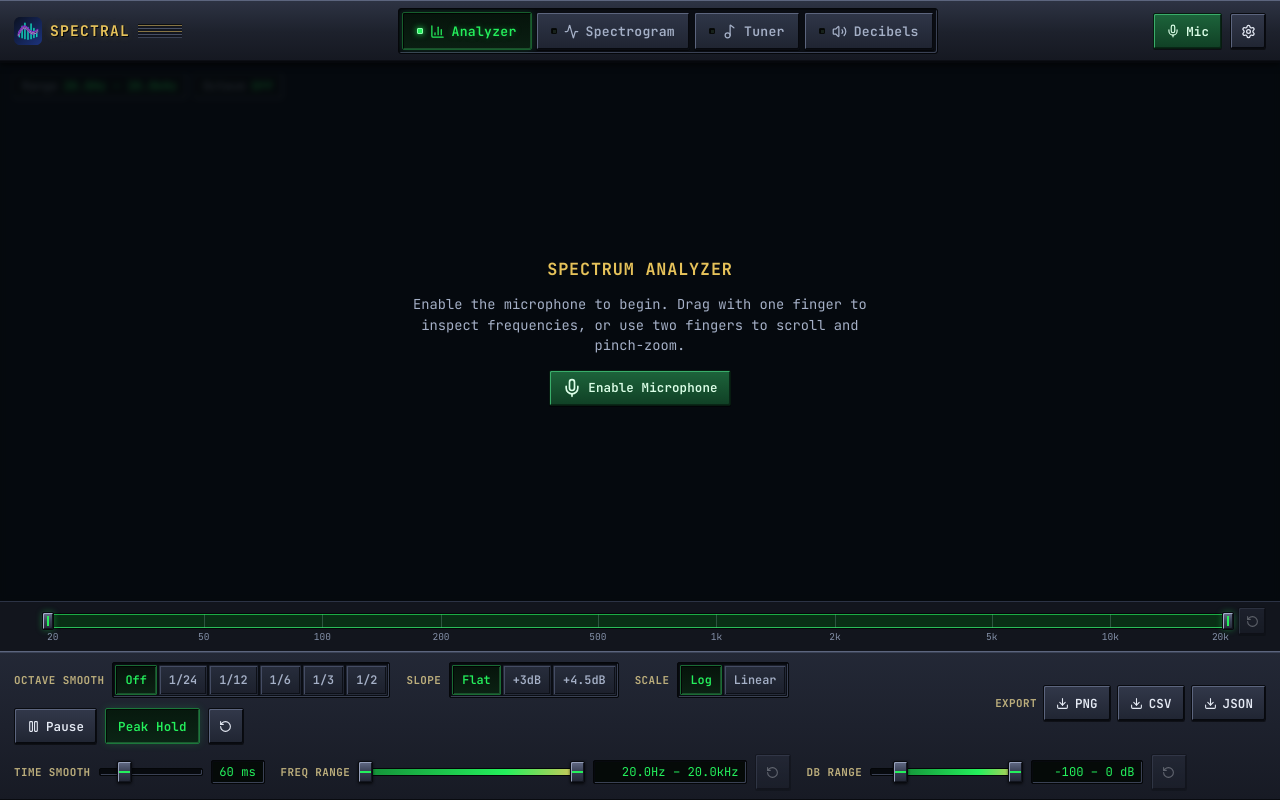
Test: Decibels Tab, Meter UI & Scrollable Header Tabs › adds the Decibels tab after Tuner, switches to DecibelsView on click, and persists preference
Click the tab "Decibels". click: (869, 31)
box: top-left (804, 12), bottom-right (934, 50)
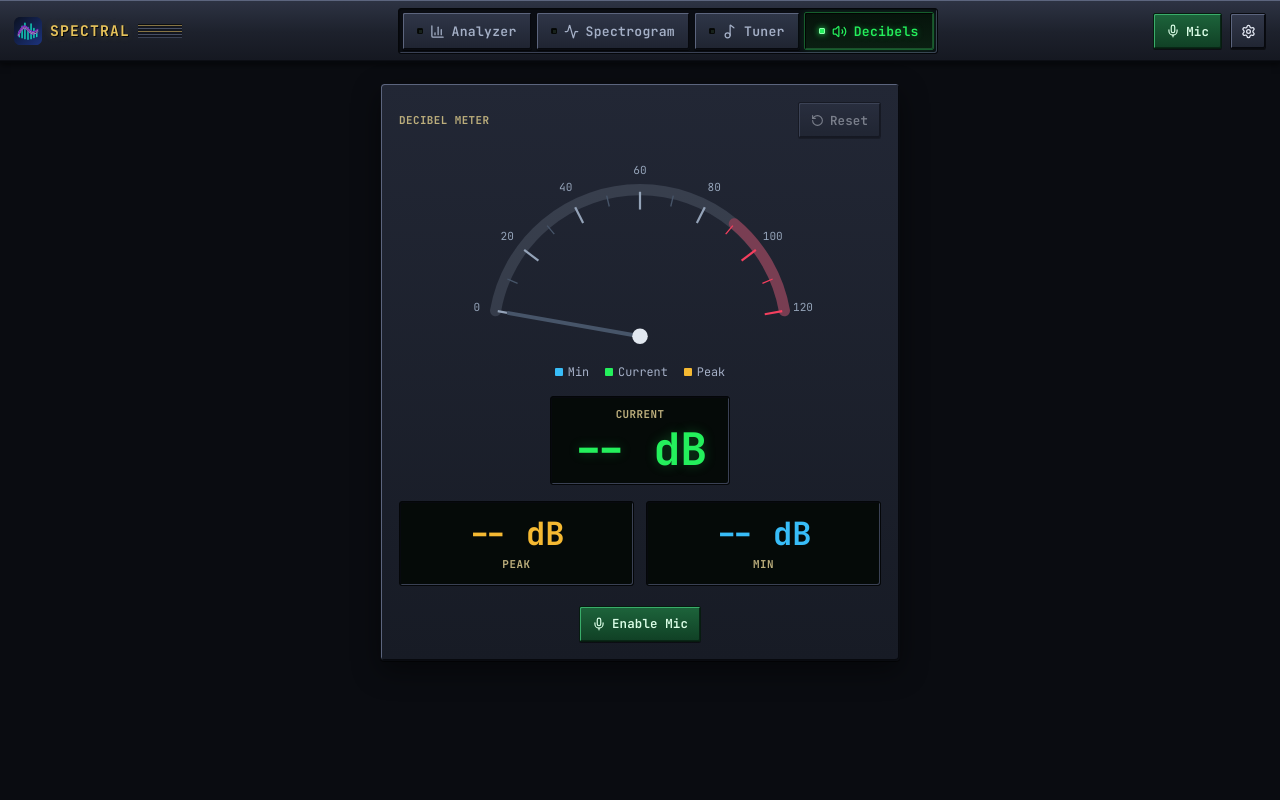
expect the icon named "Decibels Needle Meter" is shown: met, box top-left (440, 154), bottom-right (840, 358)
expect the element with test id "decibels-current-readout" is shown: met, box top-left (550, 396), bottom-right (730, 485)
expect the element with test id "decibels-peak-card" is shown: met, box top-left (399, 501), bottom-right (634, 586)
